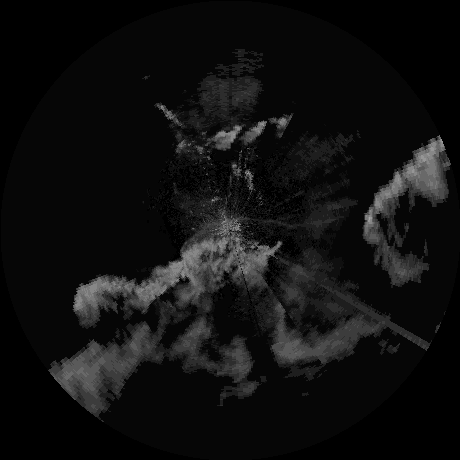frontgust: (232, 216, 309, 233)
